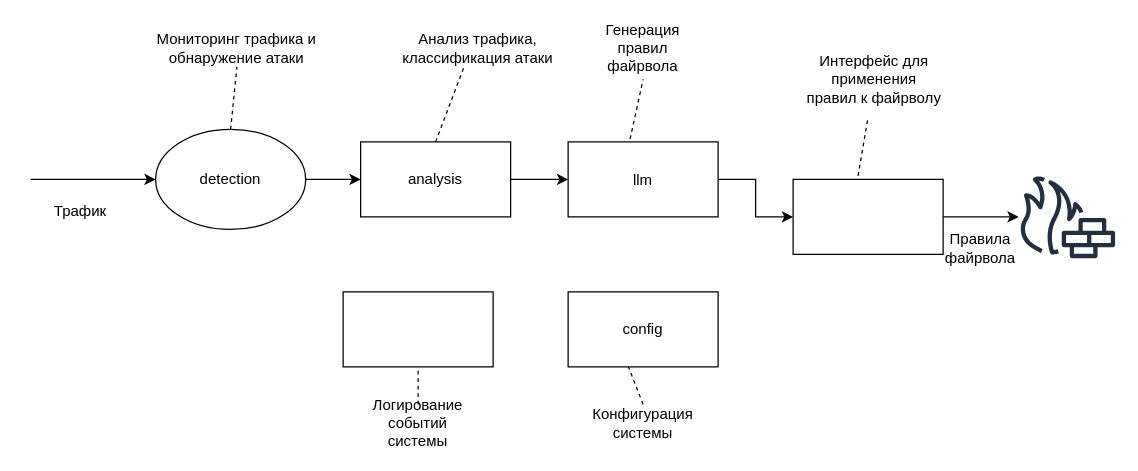
The diagram is 1138 pixels wide and 471 high, and some of its shapes have lost their labels. Each missing label, with the centre of its shape:
"logger" belongs at [417,329].
"mitigation" belongs at [867,216].
